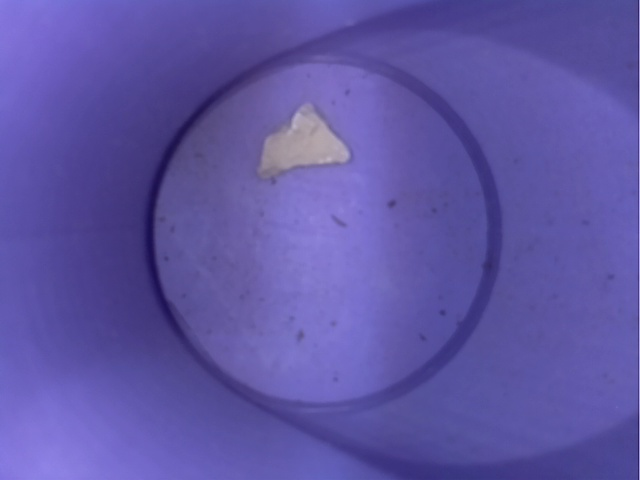caillou: (245, 88, 358, 192)
